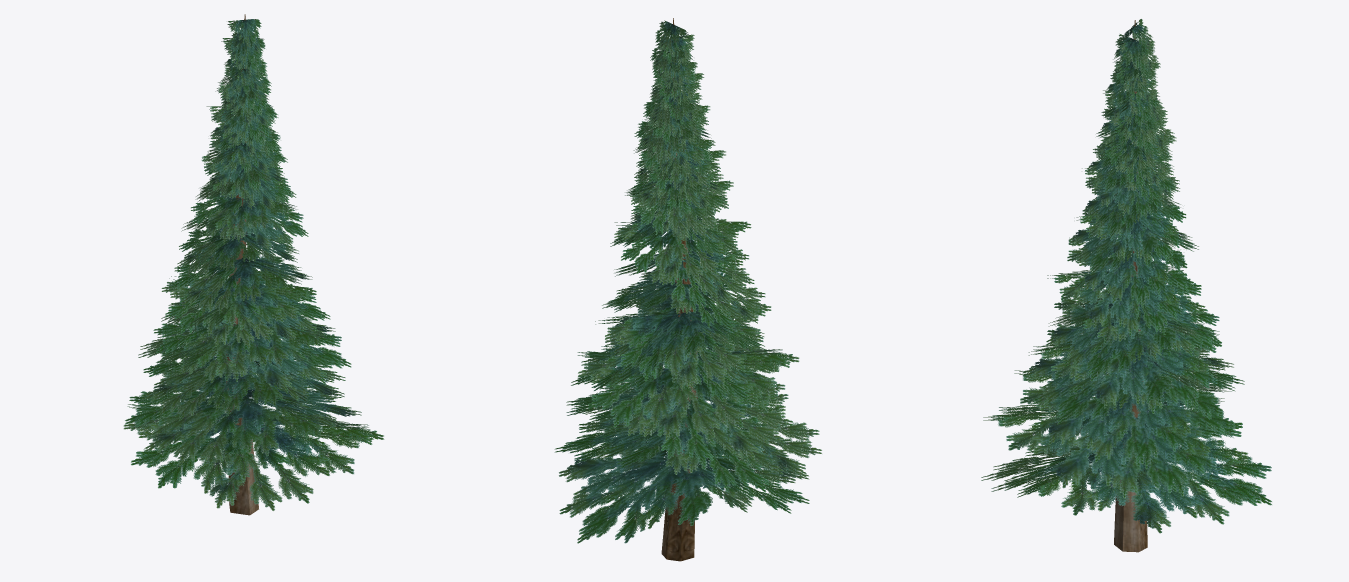
Rendered from fir_tree.fbx.
3 views of the same model, side by side, from view 1: azimuth 30°, elevation 25°; view 2: azimuth 150°, elevation 25°; view 3: azimuth 270°, elevation 25° (orthographic). The views are drawn at different scales.
Parts seen in each view (by area): view 1: fir-tree; view 2: fir-tree; view 3: fir-tree.
Boxes of the visible parts, left/top/right/bottom form: fir-tree: left=123, top=14, right=384, bottom=515; fir-tree: left=554, top=18, right=821, bottom=561; fir-tree: left=981, top=19, right=1271, bottom=552.
Size of the model in its own units: 632 by 881 by 630.
2 materials, 2 textured.
